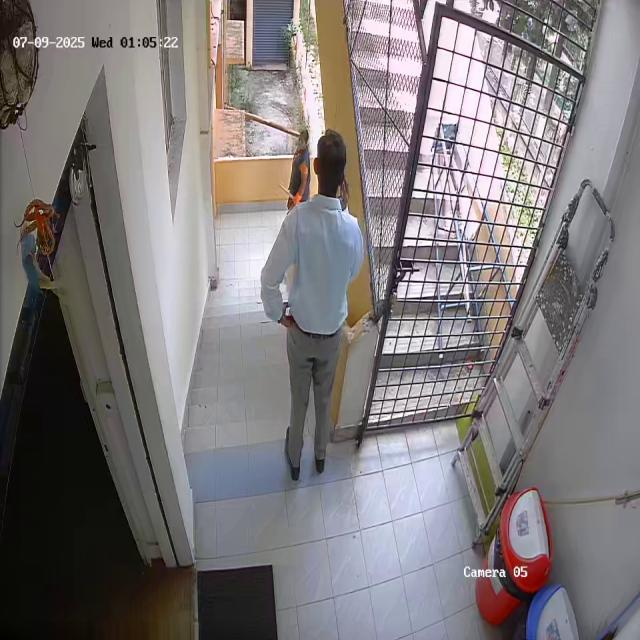person: (266, 131, 360, 481), (282, 130, 311, 203)
